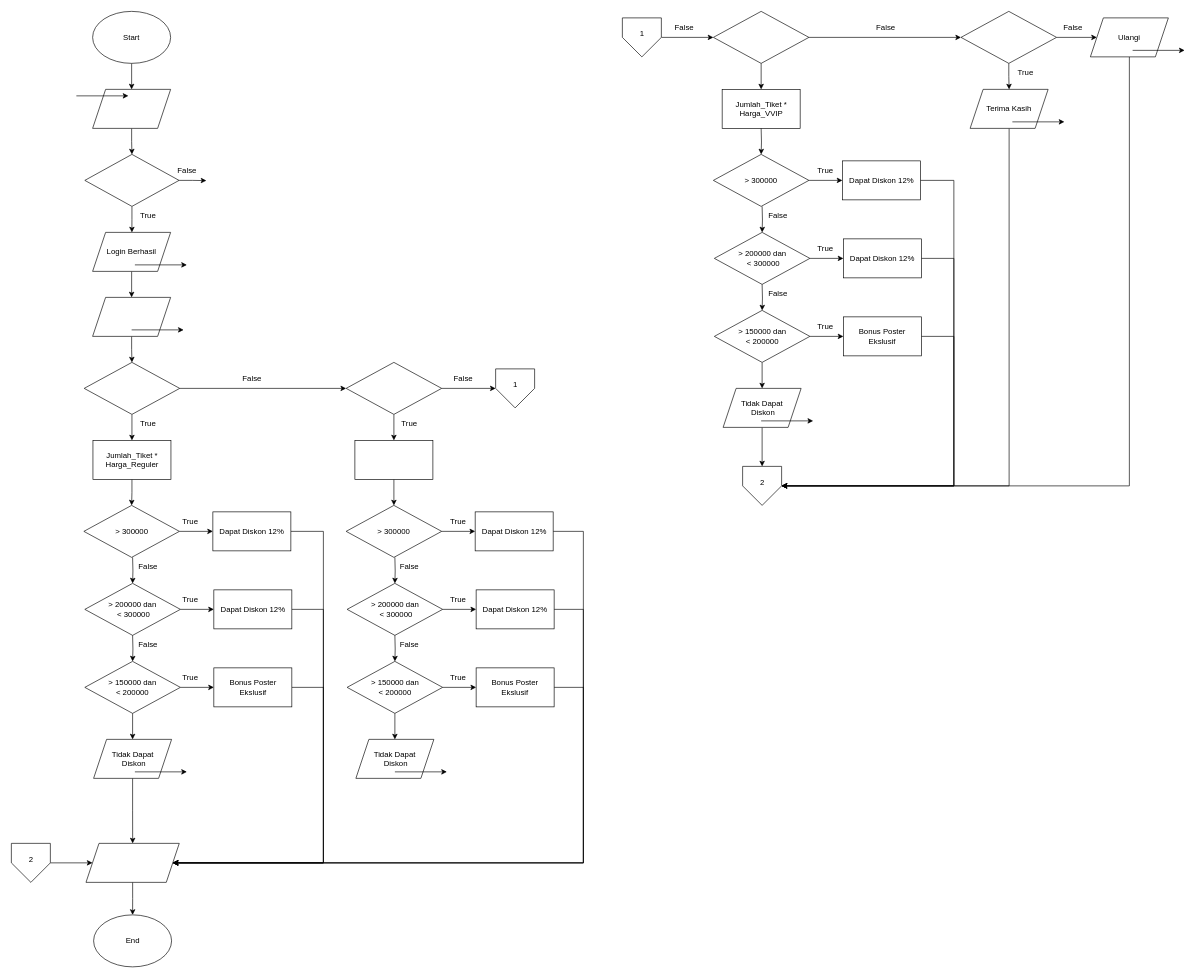
The diagram is 1201 pixels wide and 978 high, and some of its shapes have lost their labels. Here are the shapes that lost their labels. From the top down, the centre of each, then its label:
At (761,37): "Tiket_VVIP".
At (1008,37): "Keluar".
At (131,108): "Input Nama dan Password".
At (131,180): "Percobaan Login > 0".
At (131,316): "Daftar Tiket".
At (132,388): "Tiket_Regular".
At (393,388): "Tiket_VIP".
At (393,459): "Jumlah_Tiket * Harga_VIP".
At (132,862): "Terima Kasih Telah Menggunakan XXO".
